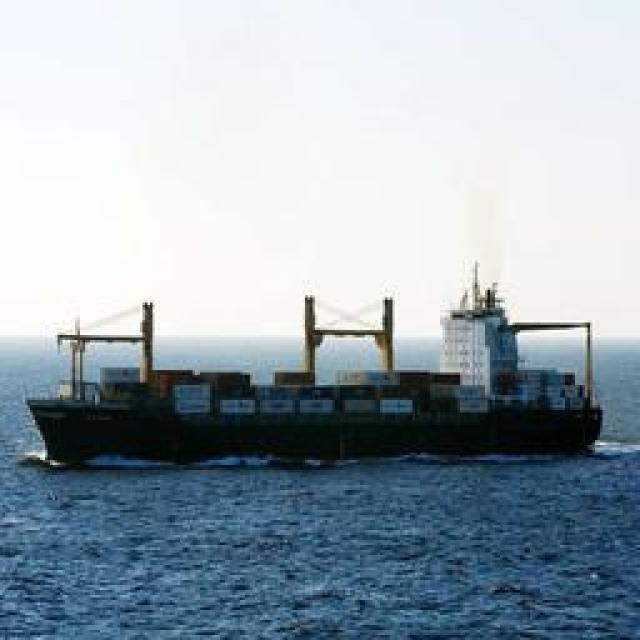ship2: (24, 260, 604, 470)
